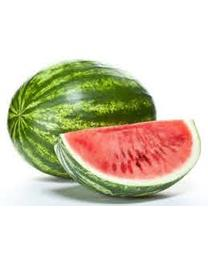watermelon: (8, 60, 156, 180), (55, 119, 202, 200)
